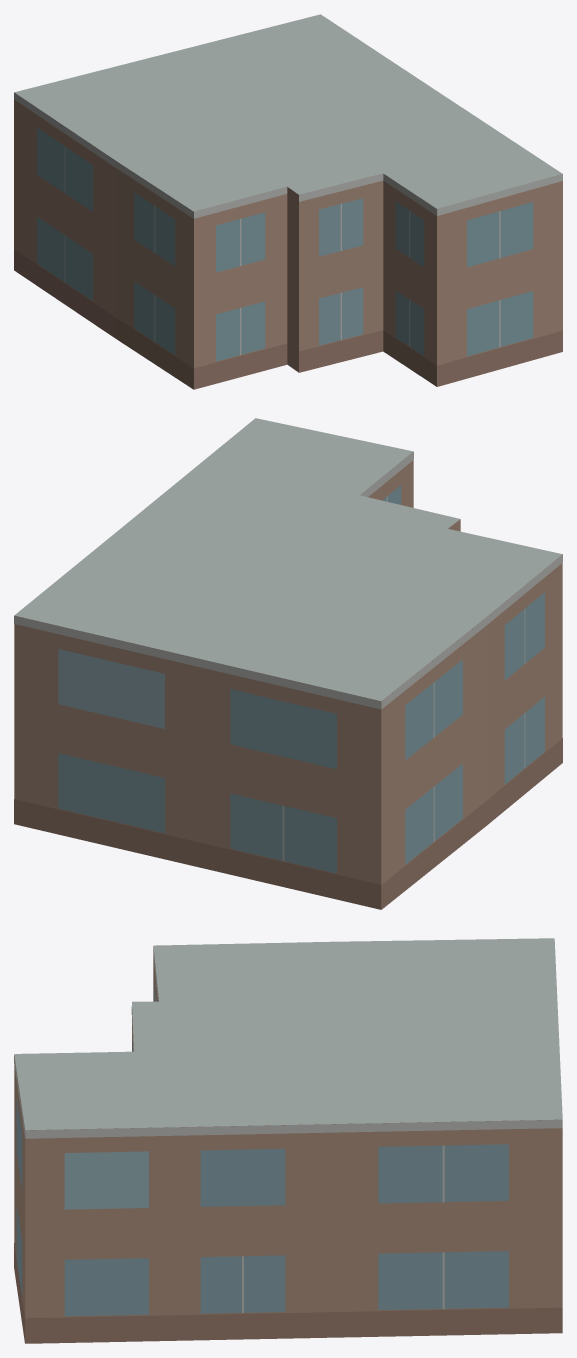
Rendered from survey-upis-32658388.glb.
3 views of the same model, one above another, from view 1: azimuth 30°, elevation 25°; view 2: azimuth 150°, elevation 25°; view 3: azimuth 270°, elevation 25° (orthographic). The views are drawn at different scales.
Visible parts, largest first — view 1: survey-upis-32658388.tmp; view 2: survey-upis-32658388.tmp; view 3: survey-upis-32658388.tmp.
Boxes of the visible parts, left/top/right/bottom form: survey-upis-32658388.tmp: left=14, top=14, right=562, bottom=389; survey-upis-32658388.tmp: left=14, top=418, right=562, bottom=909; survey-upis-32658388.tmp: left=14, top=938, right=562, bottom=1343.
Bounding box in the file's own units: 11.78 × 6.1 × 14.22.
